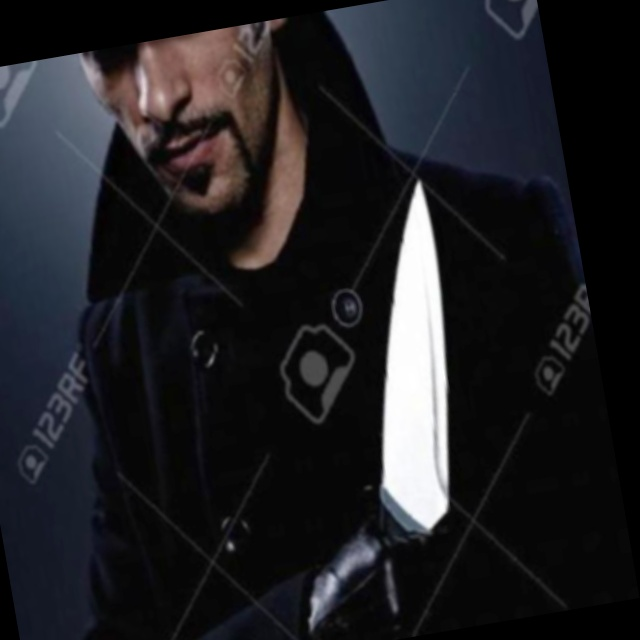Sharp-Object: (319, 179, 485, 544)
